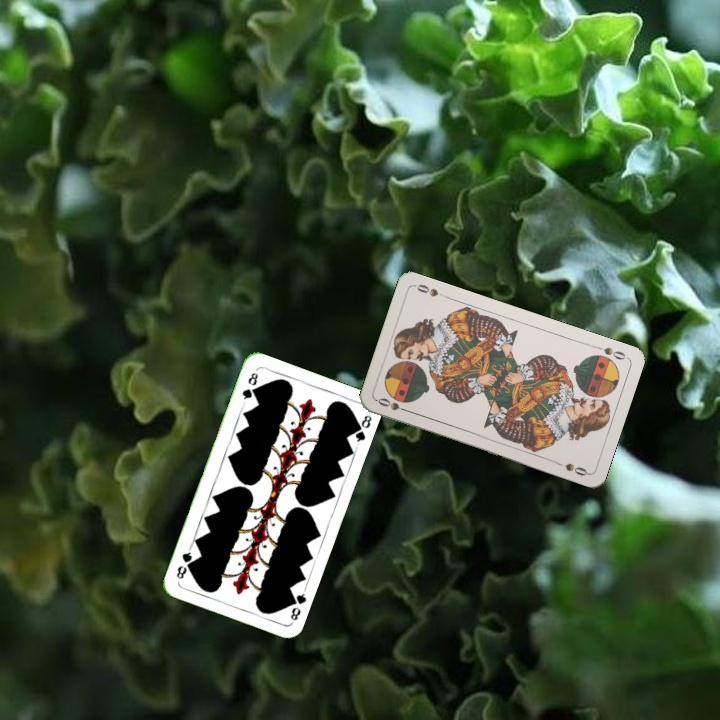G8: (285, 586, 309, 625), (238, 368, 261, 402)
SO: (373, 394, 412, 415), (590, 342, 628, 362)
